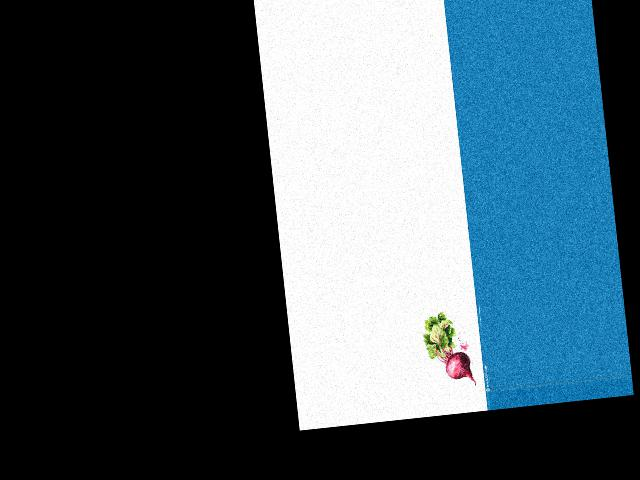beet: (421, 308, 476, 390)
